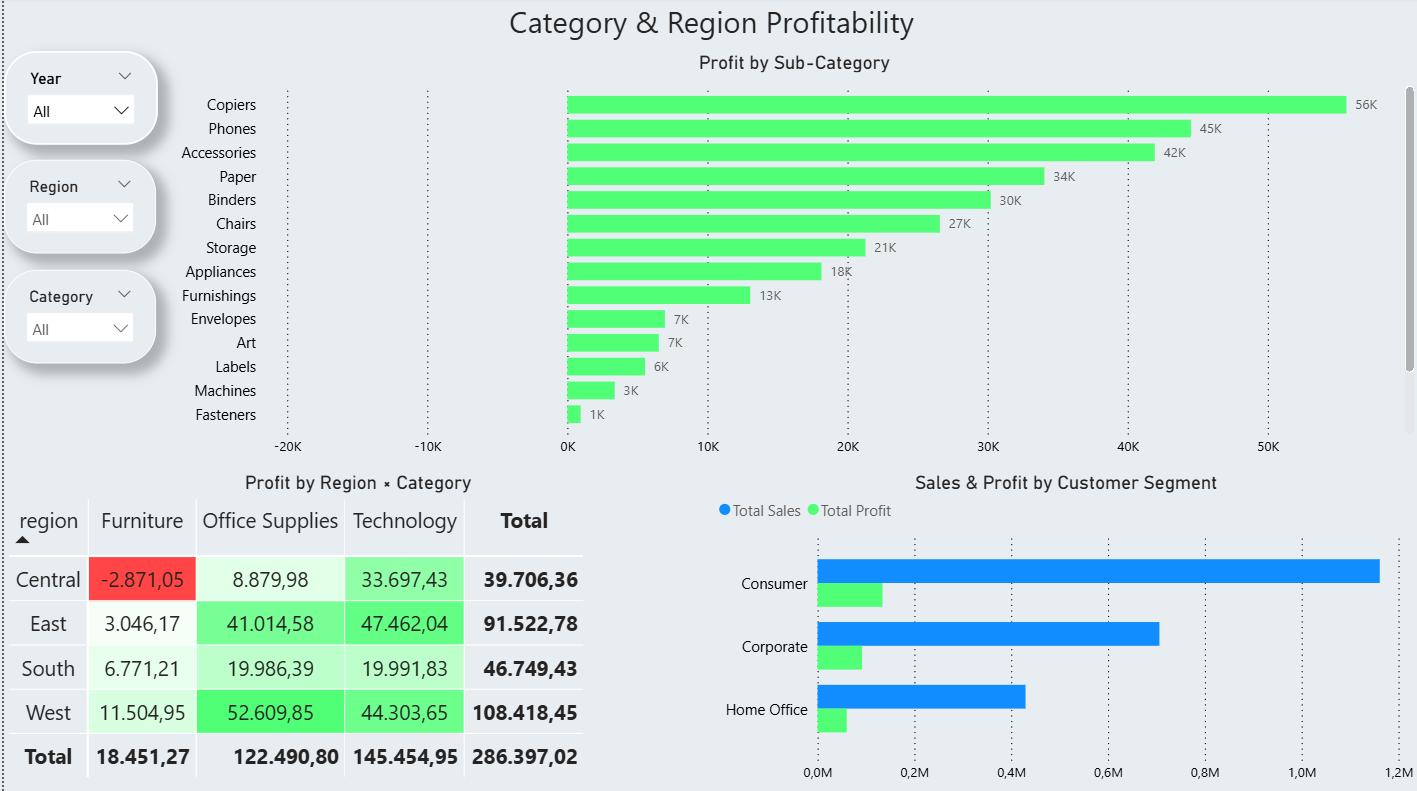

The page's visual inventory and layout, read from the dashboard file:
{"tool":"powerbi","page":{"name":"Category Analysis","canvas":[1280,720],"ordinal":1},"visuals":[{"type":"textbox","box":[0,0,1280.3,50],"z":0},{"type":"slicer","fields":{"Values":["superstore_clean.order_year"]},"box":[0,50,139.1,84.9],"z":0,"group":"g1"},{"type":"clusteredBarChart","title":"Profit by Sub-Category","fields":{"Category":["superstore_clean.sub_category"],"Y":["superstore_clean.Total Profit"]},"box":[148.8,50,1131.4,375.6],"z":1000},{"type":"slicer","fields":{"Values":["superstore_clean.region"]},"box":[0,148.8,137.7,84.9],"z":1000,"group":"g1"},{"type":"slicer","fields":{"Values":["superstore_clean.category"]},"box":[0,247.6,137.7,84.9],"z":2000,"group":"g1"},{"type":"pivotTable","title":"Profit by Region × Category","fields":{"Rows":["superstore_clean.region"],"Columns":["superstore_clean.category"],"Values":["superstore_clean.Total Profit"]},"box":[0,425.4,640.8,295],"z":2000},{"type":"clusteredBarChart","title":"Sales & Profit by Customer Segment","fields":{"Category":["superstore_clean.segment"],"Y":["superstore_clean.Total Sales","superstore_clean.Total Profit"]},"box":[640.8,425.4,639.5,295],"z":3000},{"type":"group","id":"g1","title":"Group 1","box":[0,50,139.5,282.6],"z":4000}]}

Visuals, with their boxes in screenshot pixels (x1, y1, x2, y2), scaled from the page's 1280x720 canvas onto the 1417x791 screenshot:
textbox: (0, 0, 1416, 55)
slicer - superstore_clean.order_year: (0, 55, 154, 148)
"Profit by Sub-Category" clusteredBarChart: (165, 55, 1416, 468)
slicer - superstore_clean.region: (0, 163, 152, 257)
slicer - superstore_clean.category: (0, 272, 152, 365)
"Profit by Region × Category" pivotTable: (0, 467, 709, 790)
"Sales & Profit by Customer Segment" clusteredBarChart: (709, 467, 1416, 790)
"Group 1" group: (0, 55, 154, 365)
